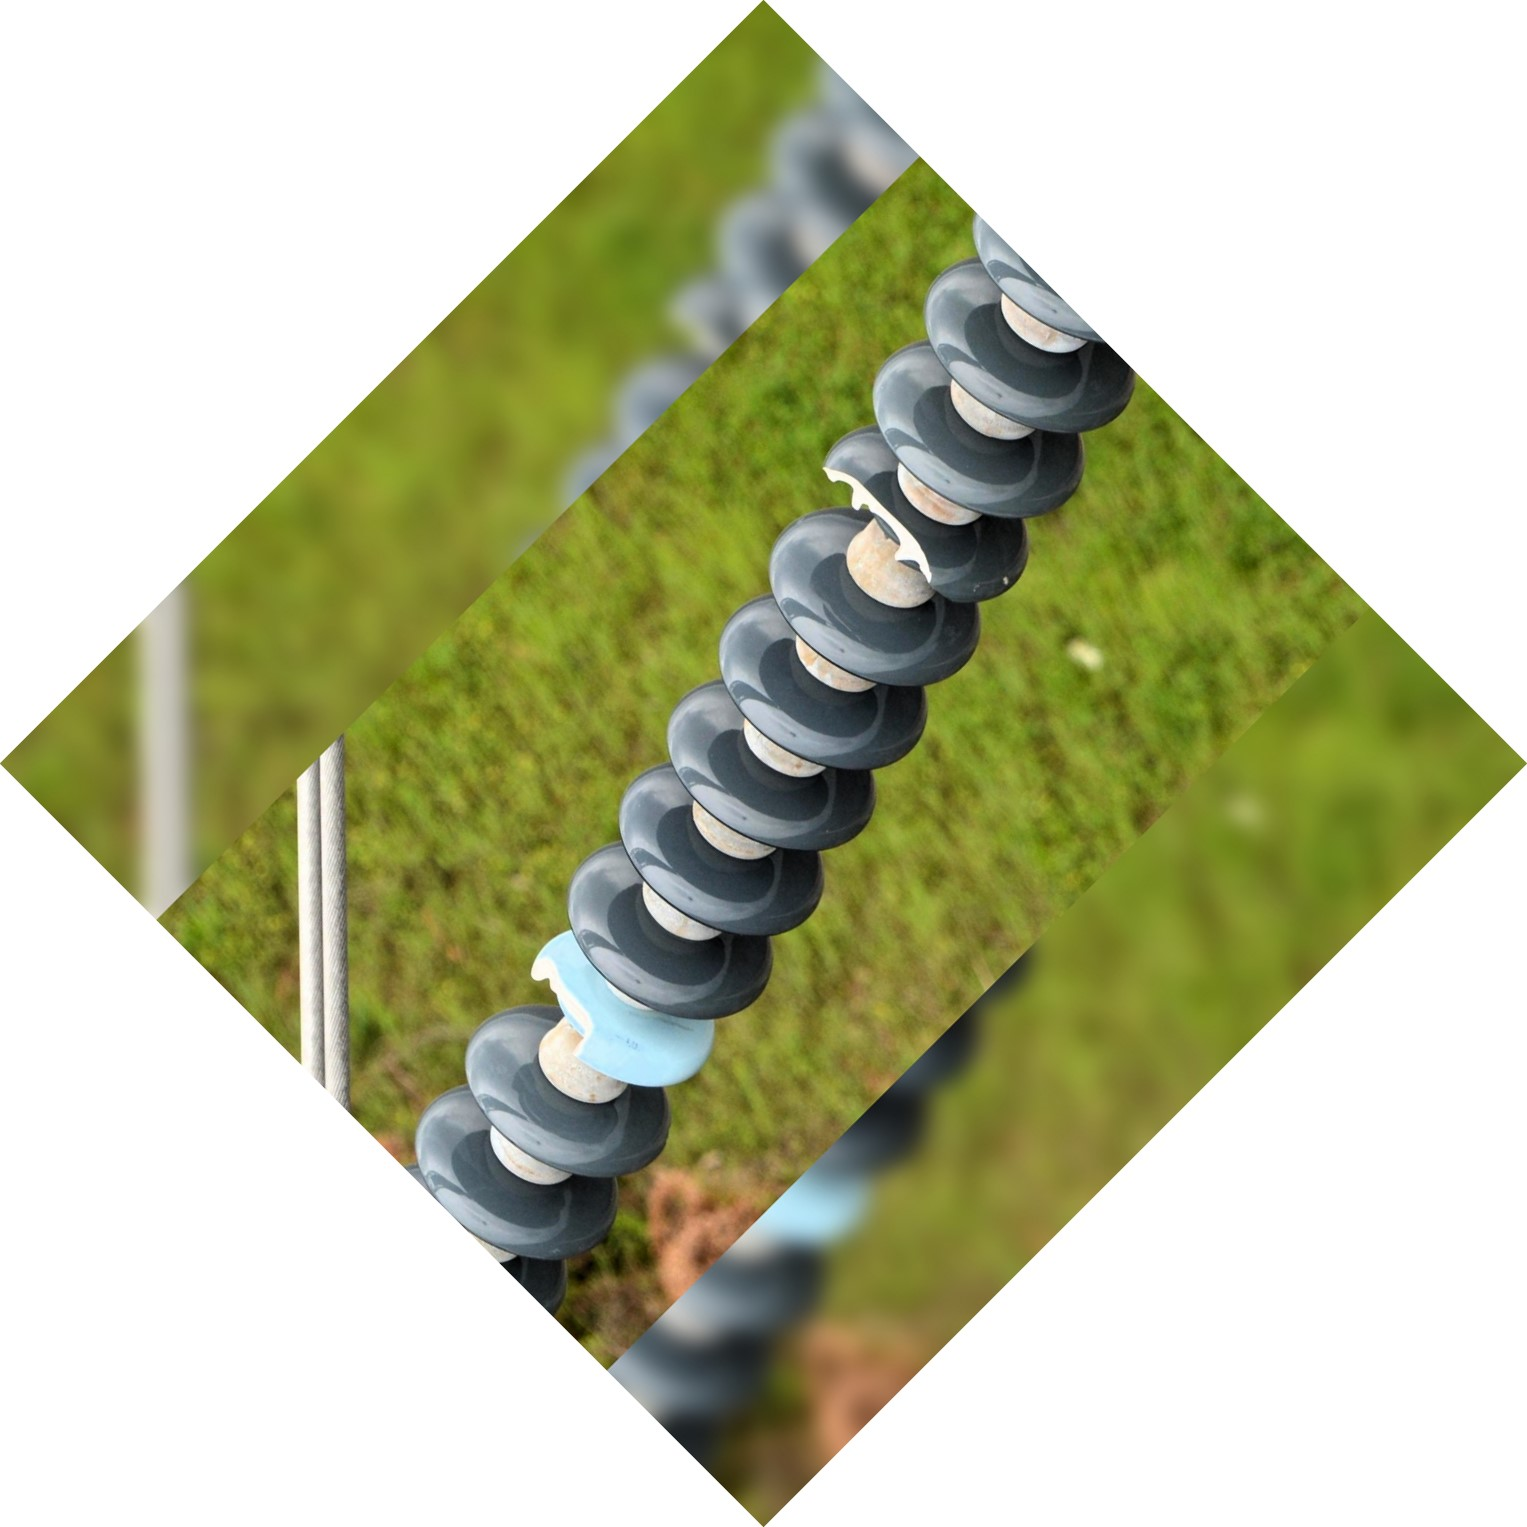insulator breakage: (810, 443, 1039, 612), (509, 916, 716, 1094)
